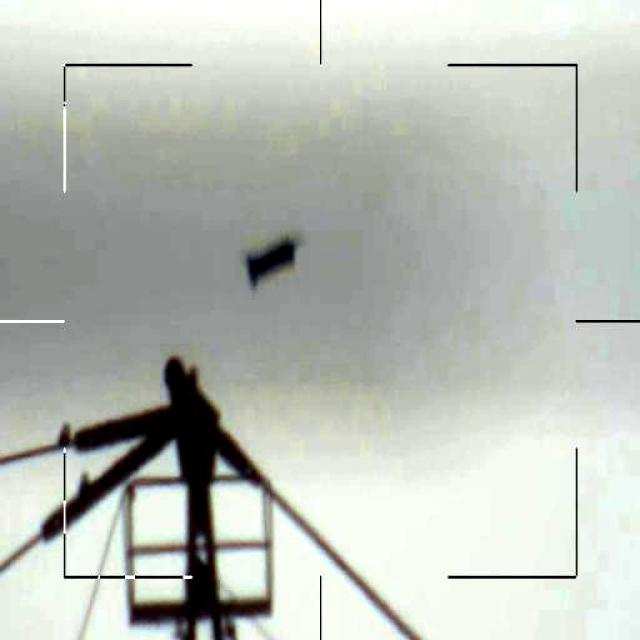bird: (244, 225, 300, 294)
